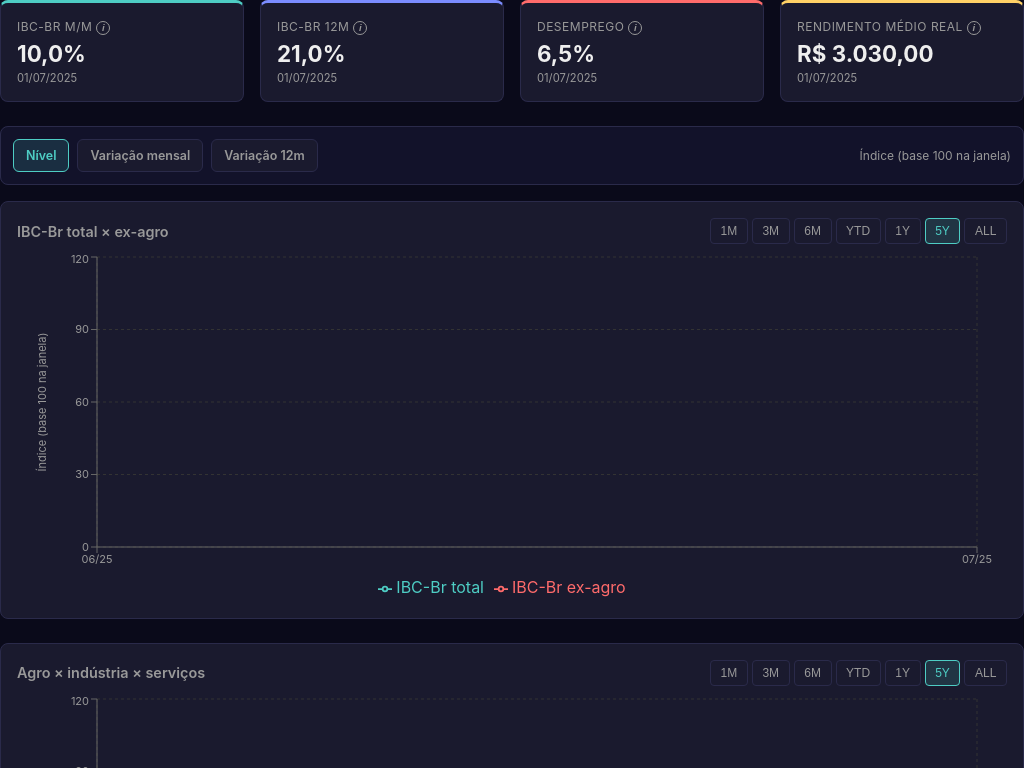
Atividade › switches chart modes with an accessible pressed state and never labels level indexes as percentages
Expected: the text "Índice (base 100 na janela)" is shown, [860,148,1011,163]
Click the button "Variação mensal" at (140, 156), box [78,139,203,172]
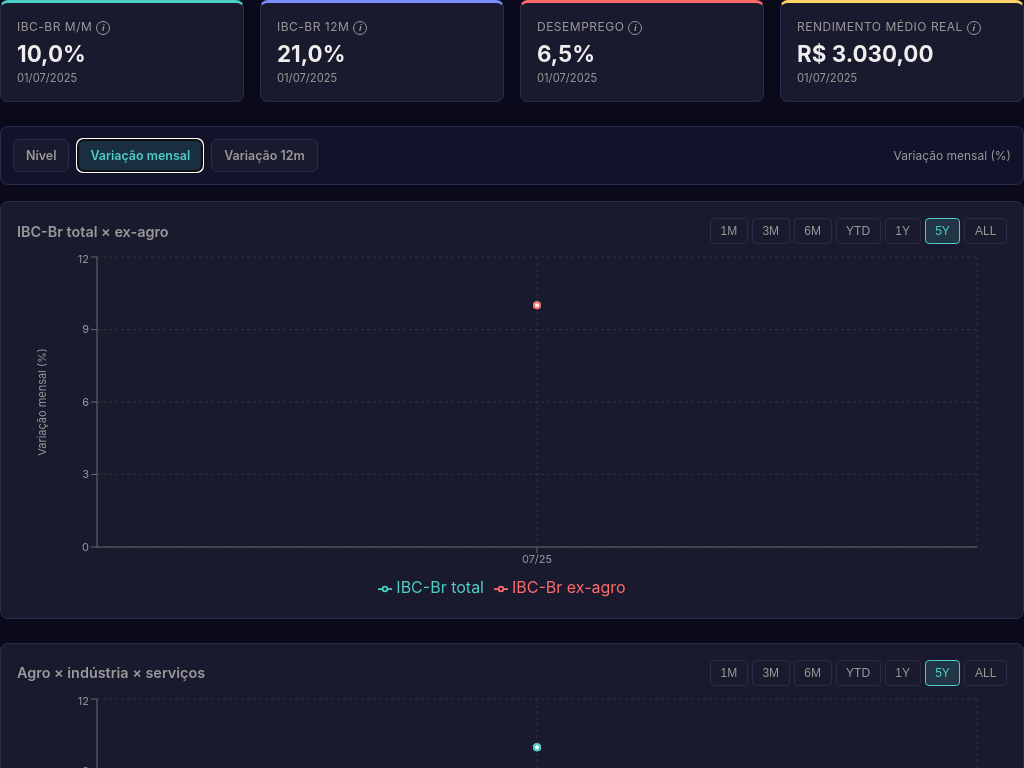
Now the text "Variação mensal (%)" is shown, box [894,148,1011,163]
Click the button "Variação 12m" at (264, 156), box [211,139,318,172]
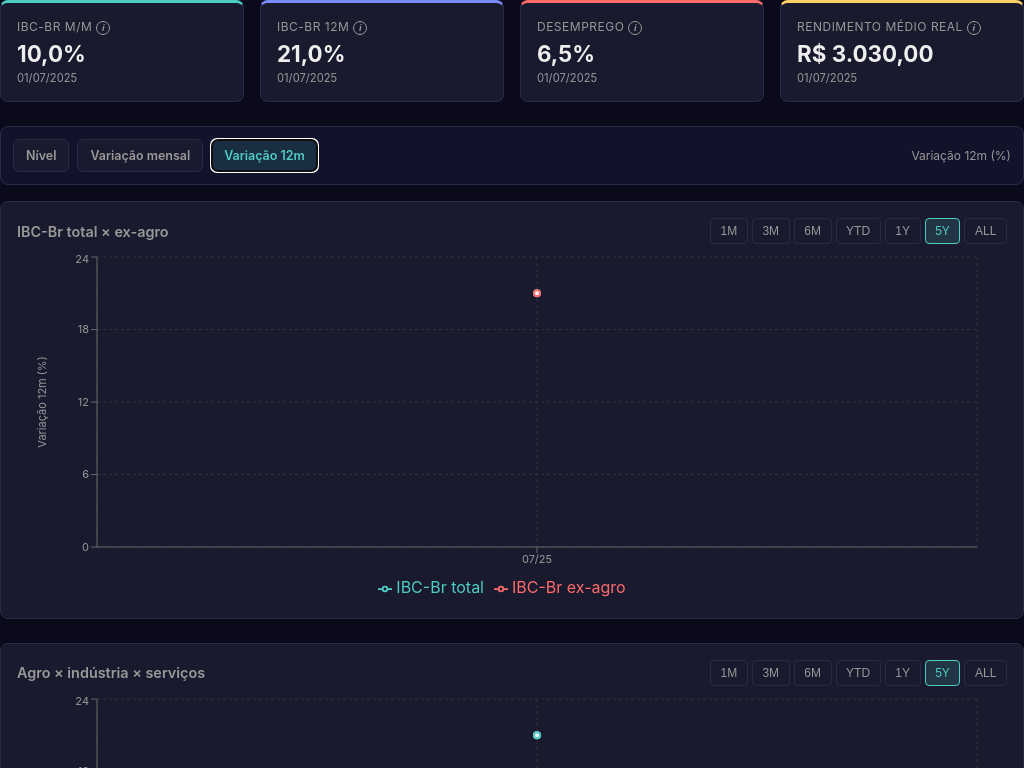
Now the text "Variação 12m (%)" is shown, box [911,148,1011,163]
